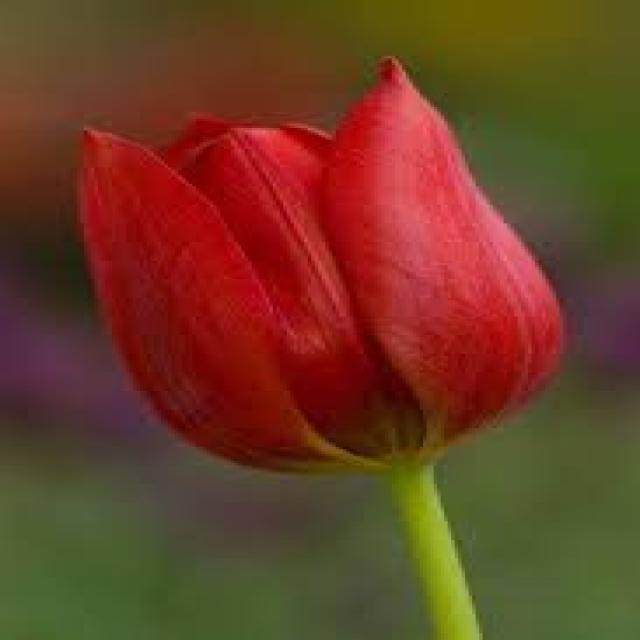tulip: (30, 42, 608, 530)
